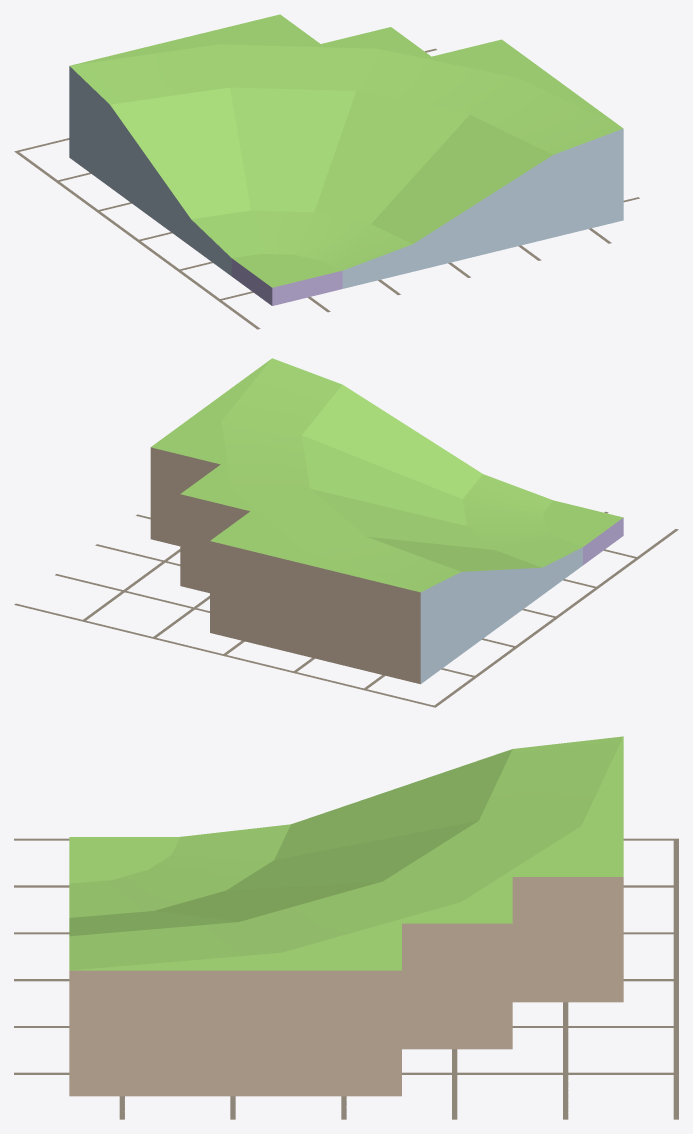
File: Grass_Hill_Gentle_Curve_Inner_4x4.glb
3 renders of one model, top to bottom at view 1: azimuth 30°, elevation 25°; view 2: azimuth 150°, elevation 25°; view 3: azimuth 270°, elevation 25°, orthographic. The views are drawn at different scales.
Parts seen in each view (by area): view 1: Grass_Hill_Gentle_Curve_Inner_4x4, Floor; view 2: Grass_Hill_Gentle_Curve_Inner_4x4, Floor; view 3: Grass_Hill_Gentle_Curve_Inner_4x4, Floor.
Part boxes in pixels (<box>): Grass_Hill_Gentle_Curve_Inner_4x4: <box>69,14,623,305</box>; Floor: <box>14,48,639,329</box>; Grass_Hill_Gentle_Curve_Inner_4x4: <box>150,358,623,684</box>; Floor: <box>14,511,678,707</box>; Grass_Hill_Gentle_Curve_Inner_4x4: <box>69,736,623,1096</box>; Floor: <box>14,838,678,1119</box>.
Size of the model in its own units: 600 by 125 by 600.
6 materials, 1 textured.
